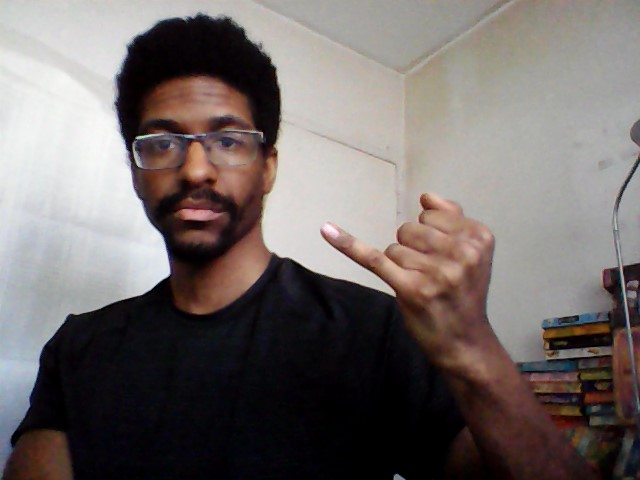j: (316, 188, 498, 332)
